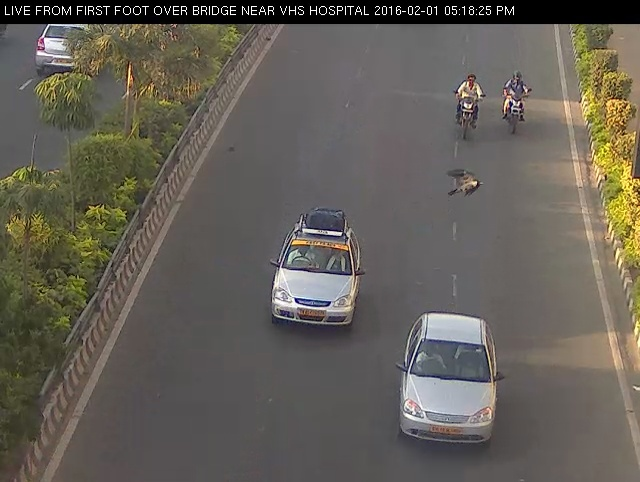Car: (386, 309, 513, 452), (260, 204, 374, 343)
Person: (447, 70, 491, 146), (499, 69, 538, 143)
